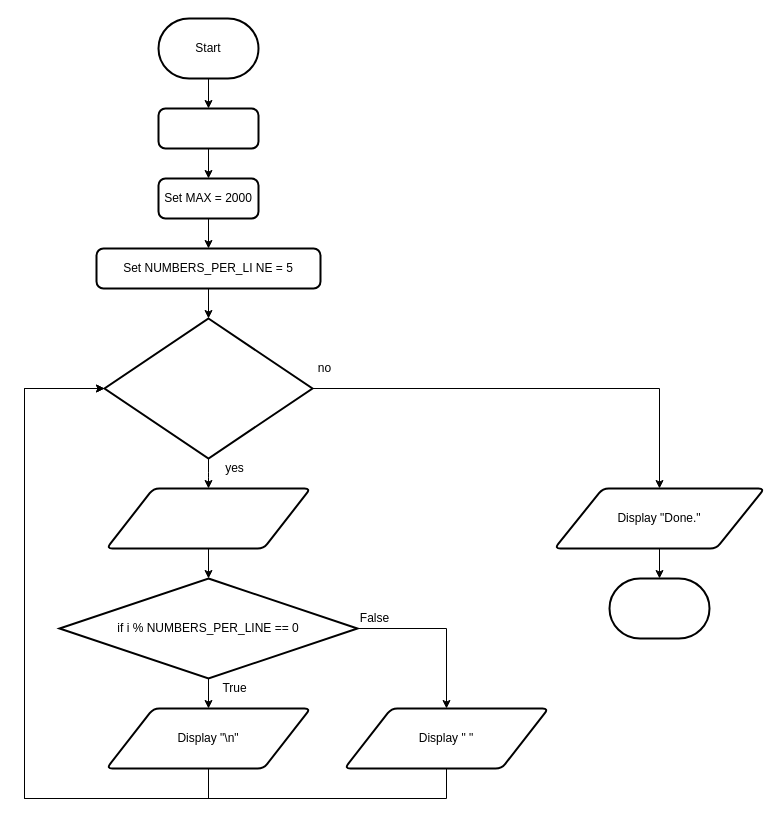
The diagram is 783 pixels wide and 824 high, and some of its shapes have lost their labels. The shapes that lost their labels are listed below. From the top down, each one's centre as x and y in pixels, then its label:
At (x=208, y=128): "Set MIN = 1000".
At (x=208, y=388): "For i = MIN, i <= MAX, i++".
At (x=208, y=518): "Display i".
At (x=659, y=608): "Stop".
